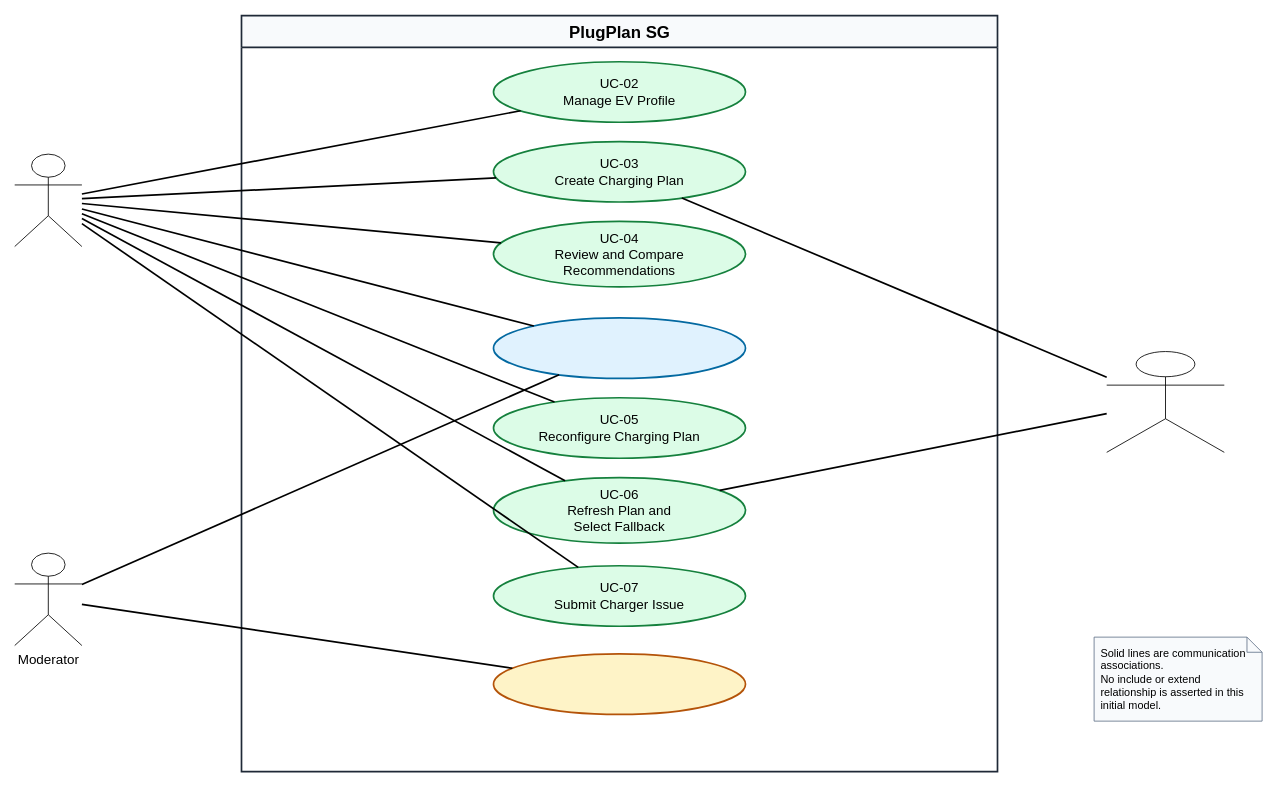
This 1277x786 diagram has some shape labels left out. The centre of each missing label's shape, as x and y in pixels:
"Driver" belongs at point 48,200.
"External Data Providers (OneMap and LTA DataMall)" belongs at point 1165,401.
"UC-01 Access Account" belongs at point 619,348.
"UC-08 Moderate Charger Reports" belongs at point 619,684.
